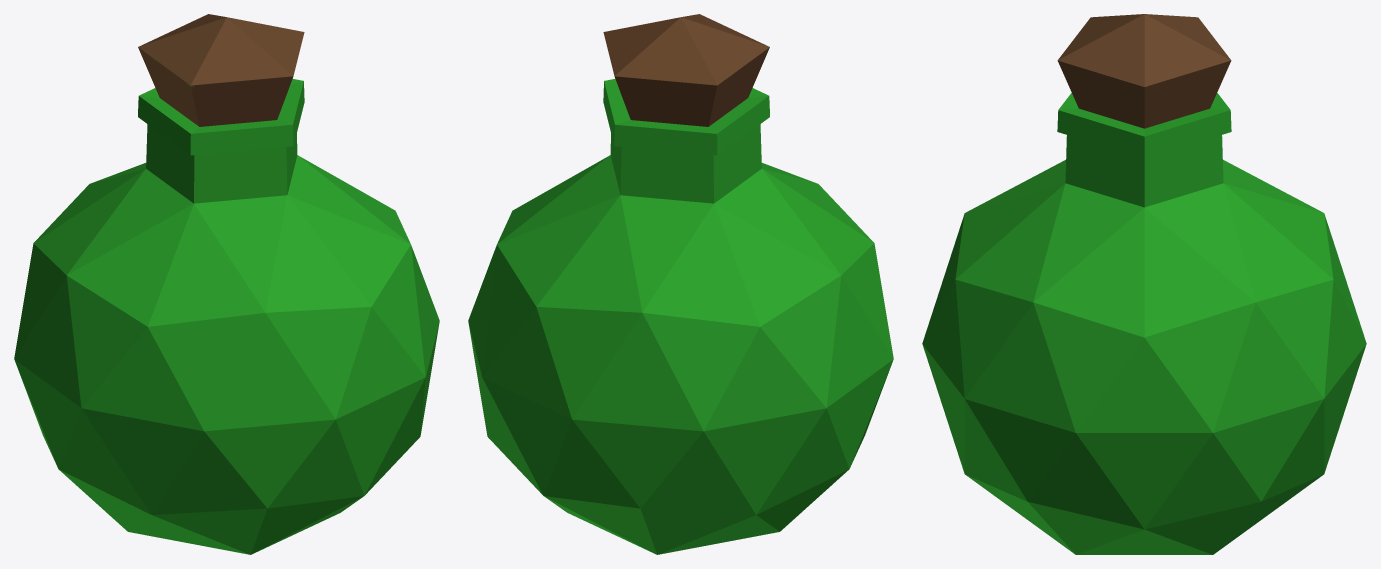
File: flaskmodel.fbx
3 views of the same model, side by side, from view 1: azimuth 30°, elevation 25°; view 2: azimuth 150°, elevation 25°; view 3: azimuth 270°, elevation 25° (orthographic). The views are drawn at different scales.
Parts seen in each view (by area): view 1: Icosphere; view 2: Icosphere; view 3: Icosphere.
Part boxes in pixels (x1,y1,x2,y2): Icosphere: (14, 14, 439, 554); Icosphere: (468, 14, 893, 554); Icosphere: (922, 14, 1366, 554).
Size of the model in its own units: 190 by 264 by 200.
Materials: 1 (1 with a texture image).
